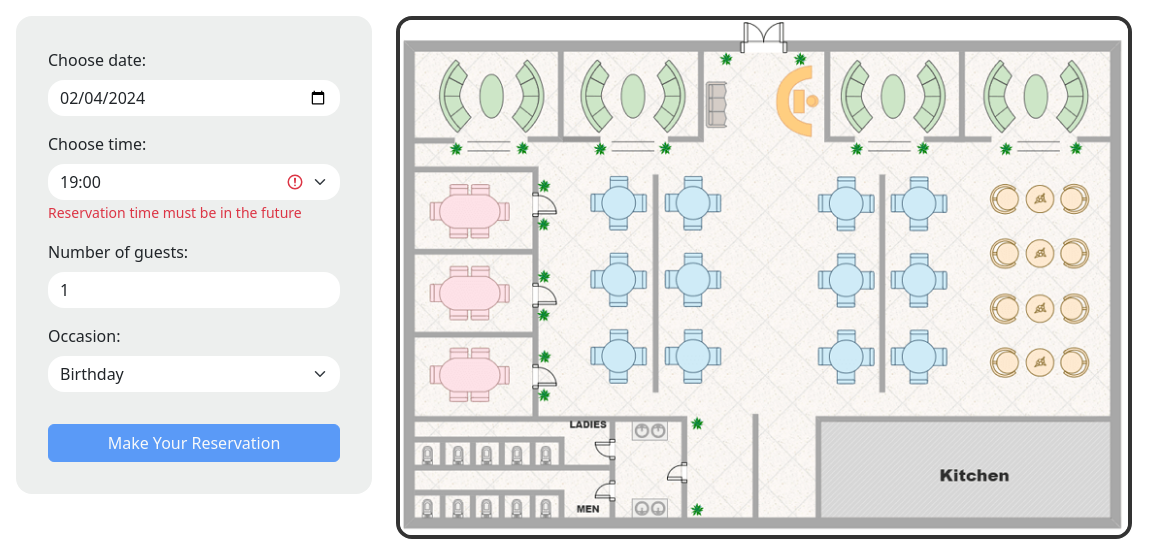
it: The selected date must be in the future
This screenshot has width=1149, height=556.
# Simulate a change event with a past date
Type "1998-01-01" into the date field labelled "Choose date:" at (194, 98), box [48,80,340,116]
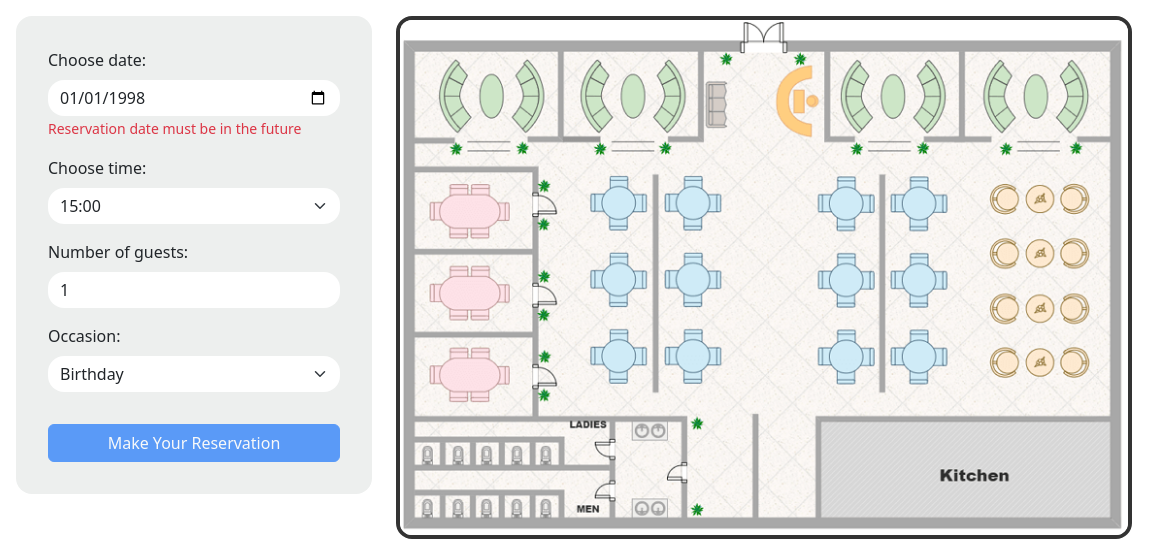
Expected: the text "Reservation date must be in the future" is shown, [48,119,302,138]
